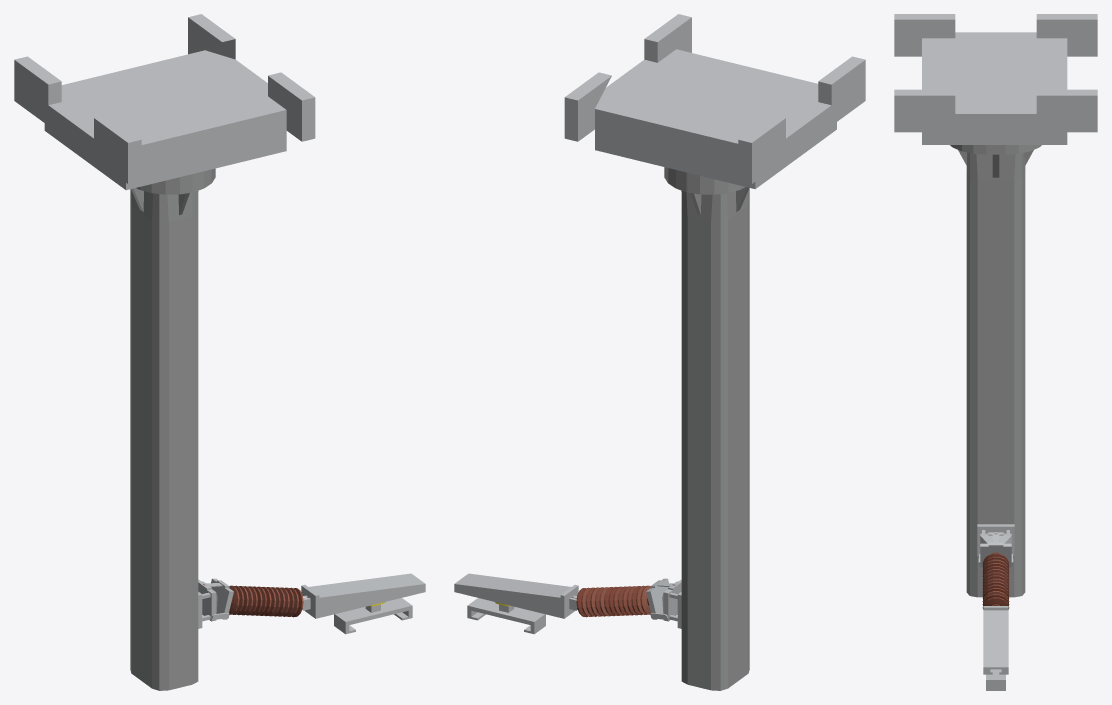
Rendered from catenary_rigid_node_gf.obj.
3 views of the same model, side by side, from view 1: azimuth 30°, elevation 25°; view 2: azimuth 150°, elevation 25°; view 3: azimuth 270°, elevation 25° (orthographic). The views are drawn at different scales.
Parts seen in each view (by area): view 1: 1; view 2: 1; view 3: 1.
Part boxes in pixels (x1,y1,x2,y2): 1: (14, 14, 425, 690); 1: (454, 14, 865, 690); 1: (894, 14, 1097, 690).
Size of the model in its own units: 1.1 by 1.81 by 0.625.
1 material, 1 textured.
